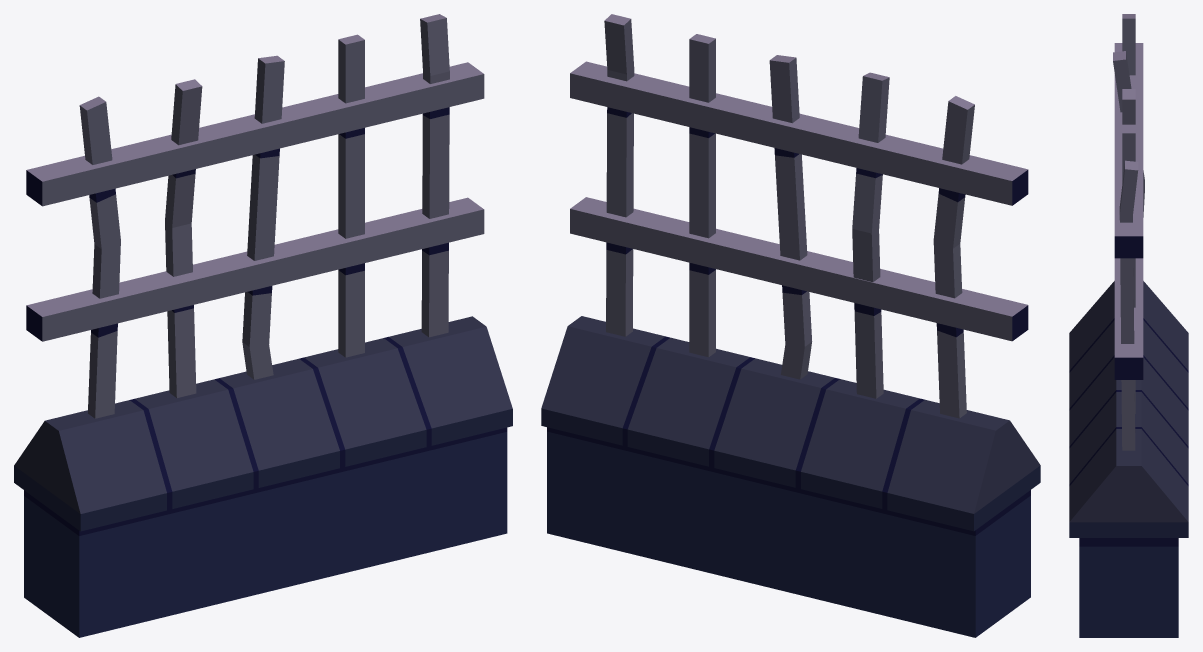
The model's file is gradeEsquerda.fbx.
The picture shows the model from 3 angles, left to right: view 1: azimuth 30°, elevation 25°; view 2: azimuth 150°, elevation 25°; view 3: azimuth 270°, elevation 25°; orthographic projection. The views are drawn at different scales.
Parts seen in each view (by area): view 1: GradeEsquerda; view 2: GradeEsquerda; view 3: GradeEsquerda.
Part boxes in pixels (<box>): GradeEsquerda: <box>14,14,512,637</box>; GradeEsquerda: <box>541,14,1040,637</box>; GradeEsquerda: <box>1069,14,1188,637</box>.
Bounding box in the file's own units: 147 × 160 × 38.13.
